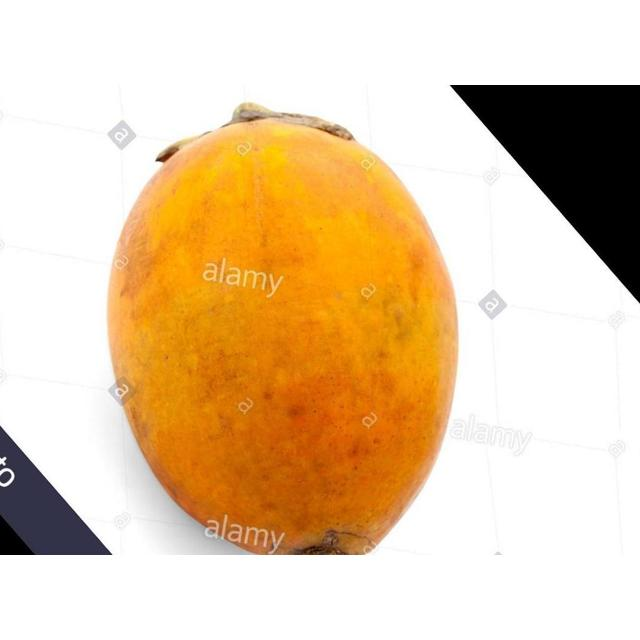good: (106, 115, 460, 555)
